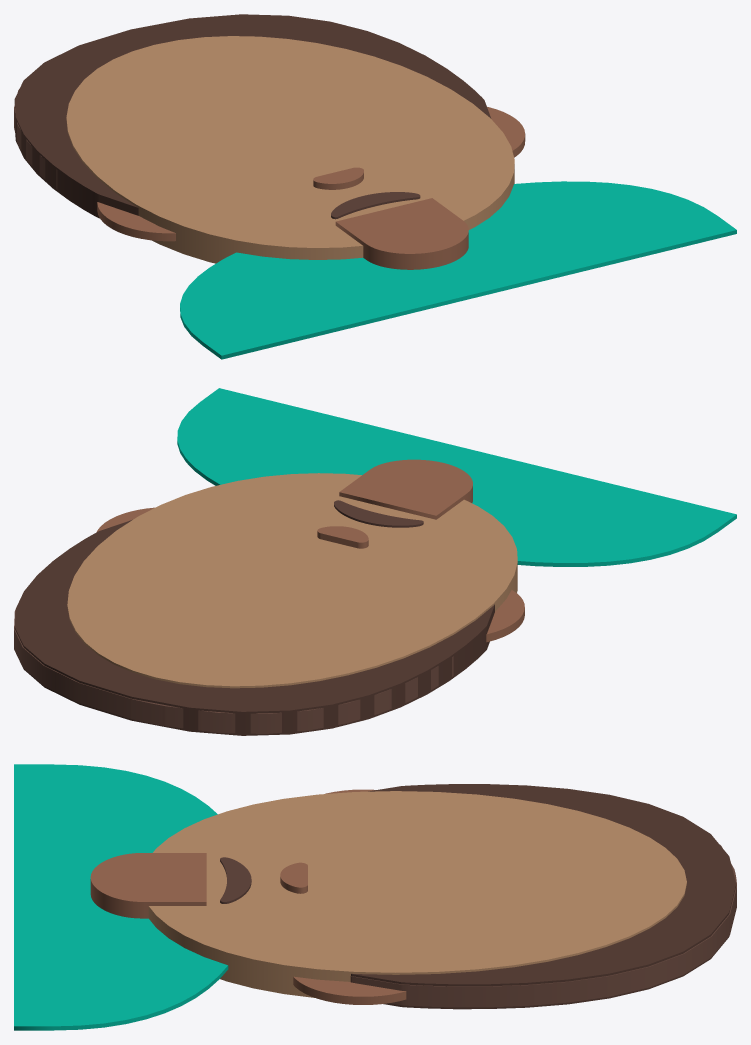
File: emoji_u1f64d_1f3fd_200d_2642.glb
3 renders of one model, top to bottom at view 1: azimuth 30°, elevation 25°; view 2: azimuth 150°, elevation 25°; view 3: azimuth 270°, elevation 25°, orthographic. The views are drawn at different scales.
Parts seen in each view (by area): view 1: emoji_u1f64d_1f3fd_200d_2642; view 2: emoji_u1f64d_1f3fd_200d_2642; view 3: emoji_u1f64d_1f3fd_200d_2642.
Part boxes in pixels (<box>): emoji_u1f64d_1f3fd_200d_2642: <box>14,14,736,359</box>; emoji_u1f64d_1f3fd_200d_2642: <box>14,388,736,735</box>; emoji_u1f64d_1f3fd_200d_2642: <box>14,764,736,1030</box>.
Size of the model in its own units: 0.0271 by 0.002 by 0.0316.
